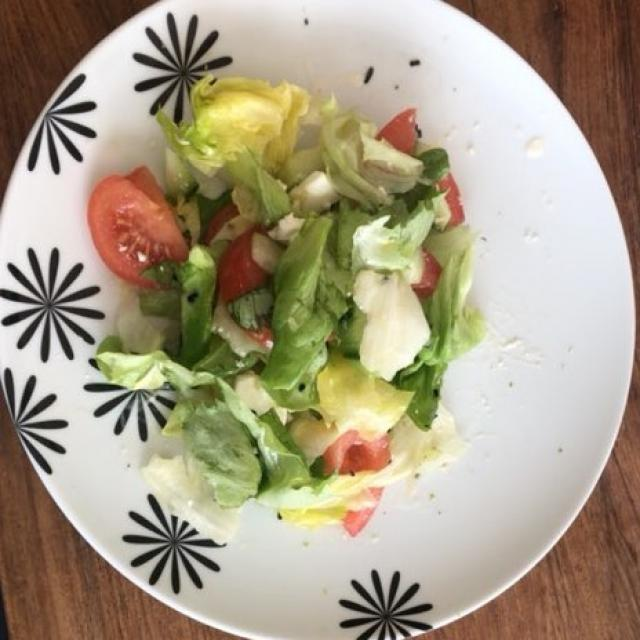salad: (140, 80, 484, 517)
tomato: (101, 102, 453, 534)
